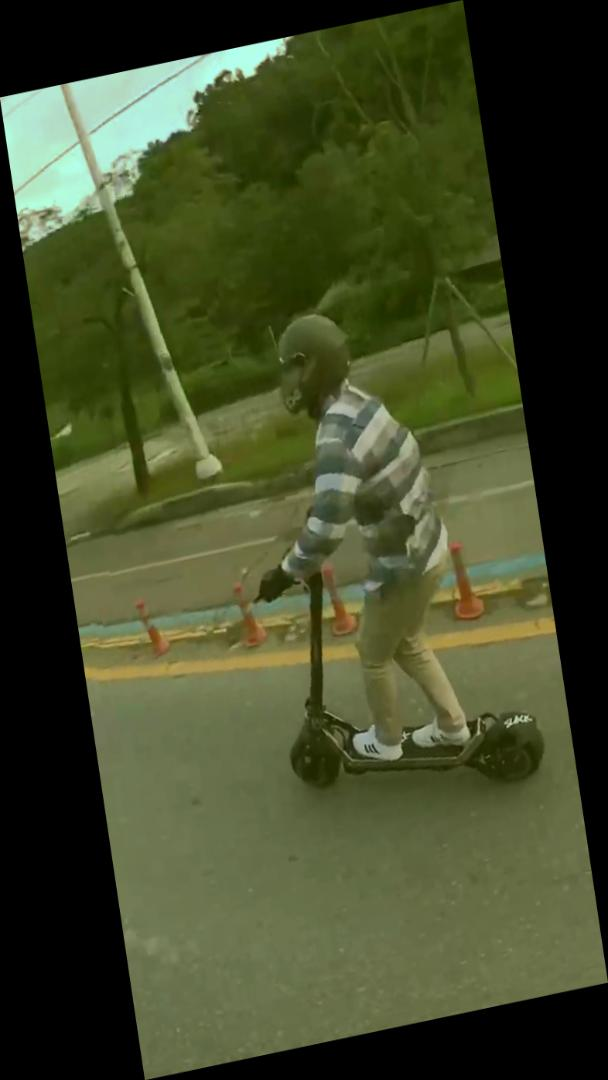helmet: (211, 277, 553, 835)
